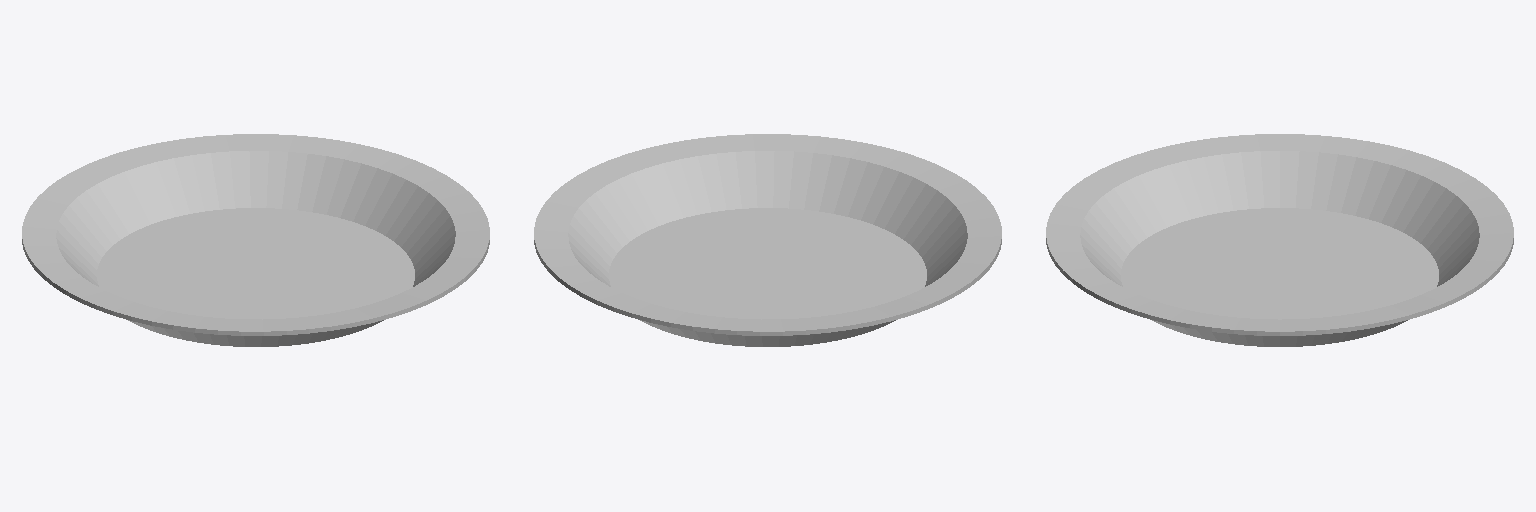
The model's file is plato.obj.
3 views of the same model, side by side, from view 1: azimuth 30°, elevation 25°; view 2: azimuth 150°, elevation 25°; view 3: azimuth 270°, elevation 25° (orthographic).
Visible parts, largest first — view 1: Círculo.001; view 2: Círculo.001; view 3: Círculo.001.
Part boxes in pixels (x1,y1,x2,y2): Círculo.001: (22,134,489,346); Círculo.001: (534,134,1001,346); Círculo.001: (1046,134,1513,346).
Bounding box in the file's own units: 5.67 × 0.6178 × 5.67.